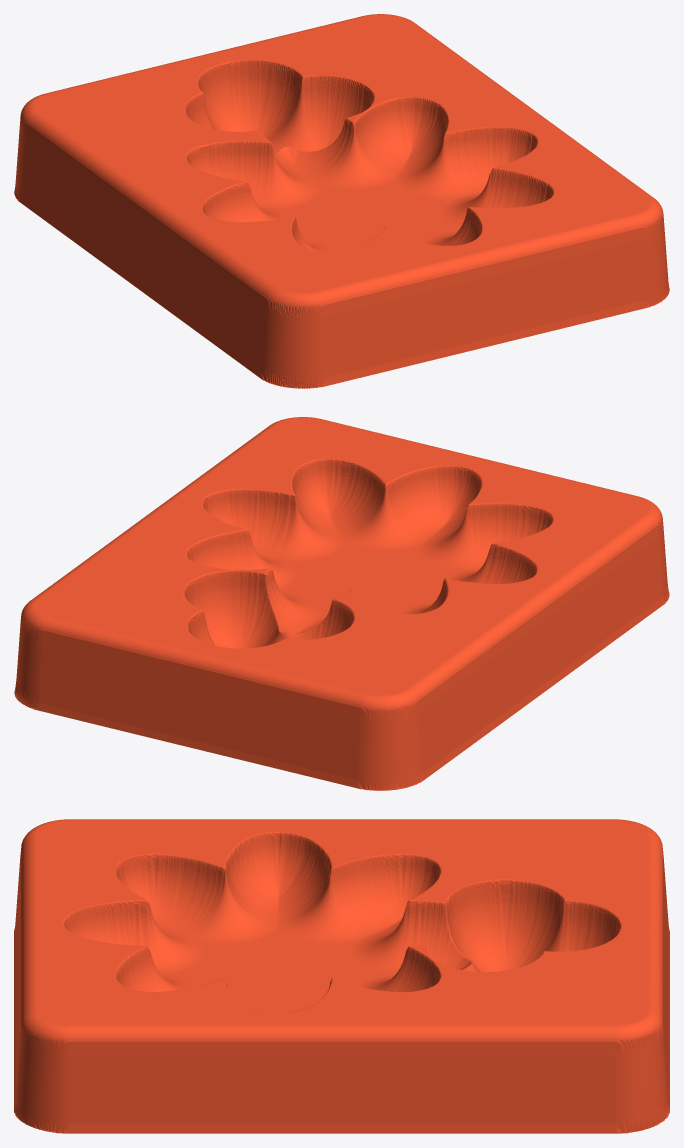
Rendered from mold.glb.
3 renders of one model, top to bottom at view 1: azimuth 30°, elevation 25°; view 2: azimuth 150°, elevation 25°; view 3: azimuth 270°, elevation 25°, orthographic. The views are drawn at different scales.
Parts seen in each view (by area): view 1: geometry_0; view 2: geometry_0; view 3: geometry_0.
Boxes of the visible parts, x1,y1,x2,y2 form: geometry_0: [14, 14, 669, 388]; geometry_0: [14, 417, 669, 790]; geometry_0: [14, 819, 669, 1133].
Size of the model in its own units: 0.0846 by 0.0175 by 0.105.
